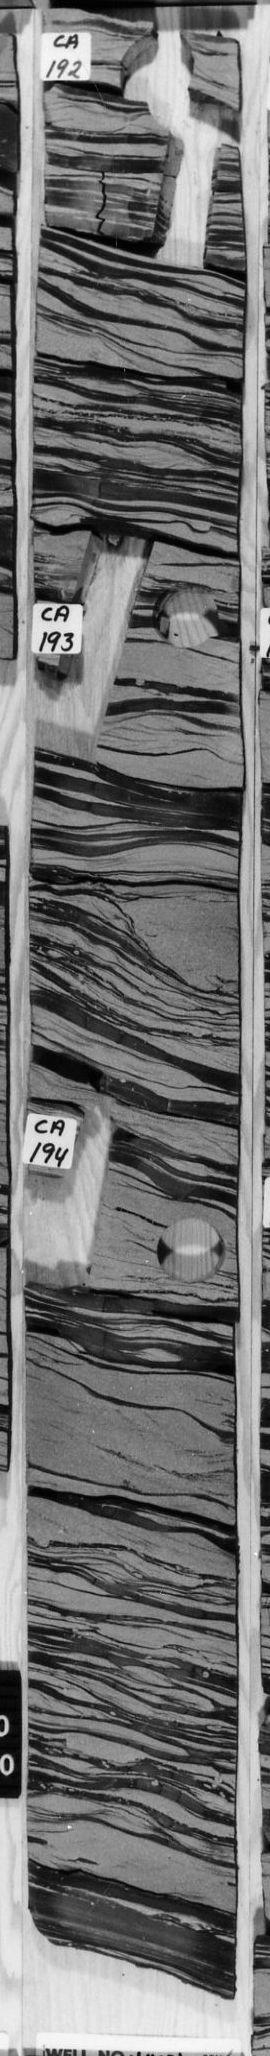hplug: (149, 1212, 231, 1290), (110, 30, 197, 100), (153, 576, 223, 656)
vplug: (37, 511, 152, 774), (28, 1090, 125, 1302), (151, 89, 236, 267)
